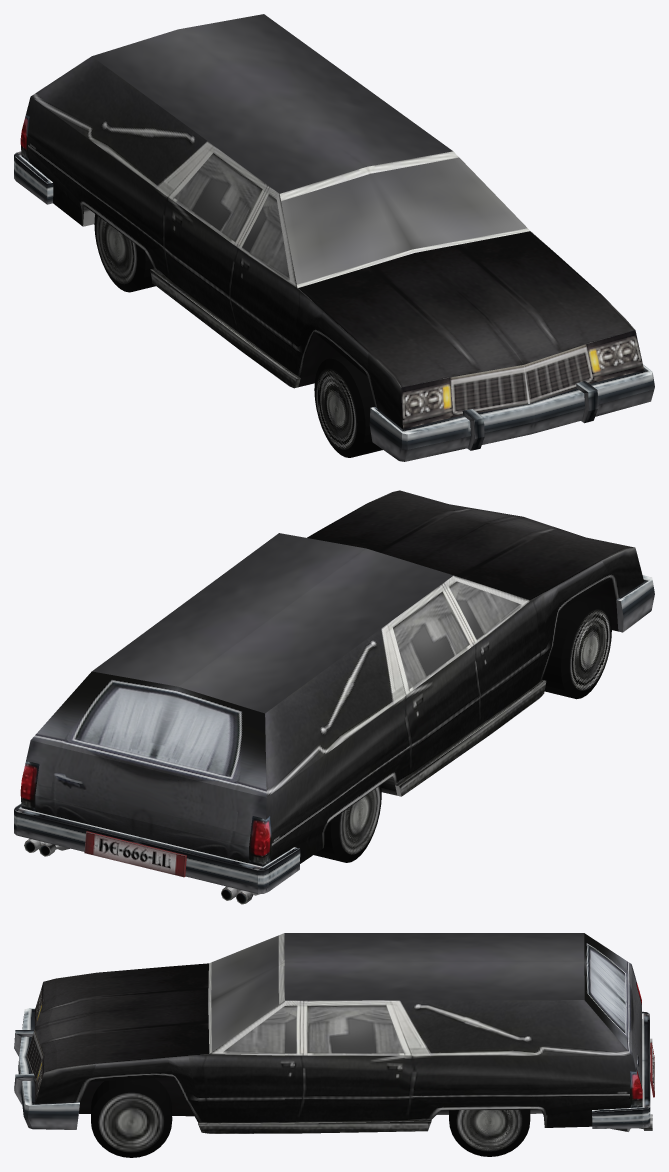
The model's file is psx_caprice_hearse.glb.
The picture shows the model from 3 angles, top to bottom: view 1: azimuth 30°, elevation 25°; view 2: azimuth 150°, elevation 25°; view 3: azimuth 270°, elevation 25°; orthographic projection. The views are drawn at different scales.
Parts seen in each view (by area): view 1: Caprice_3, Wheel.003_1, Wheel.4_0; view 2: Caprice_3, Wheel.003_1, Wheel.4_0, Back.Plate_2, Exhaust_4; view 3: Caprice_3, Wheel.1_5, Wheel.2_6.
Boxes of the visible parts, x1=… form: Caprice_3: x1=14, y1=14, x2=654, y2=461; Wheel.003_1: x1=314, y1=355, x2=382, y2=457; Wheel.4_0: x1=94, y1=214, x2=155, y2=292; Caprice_3: x1=14, y1=490, x2=654, y2=893; Wheel.003_1: x1=542, y1=596, x2=611, y2=699; Wheel.4_0: x1=314, y1=785, x2=381, y2=862; Back.Plate_2: x1=84, y1=831, x2=186, y2=877; Exhaust_4: x1=24, y1=838, x2=259, y2=904; Caprice_3: x1=14, y1=933, x2=650, y2=1133; Wheel.1_5: x1=91, y1=1078, x2=172, y2=1157; Wheel.2_6: x1=449, y1=1109, x2=530, y2=1156.
Bounding box in the file's own units: 1.48 × 1.04 × 4.05.
Materials: 5 (5 with a texture image).
